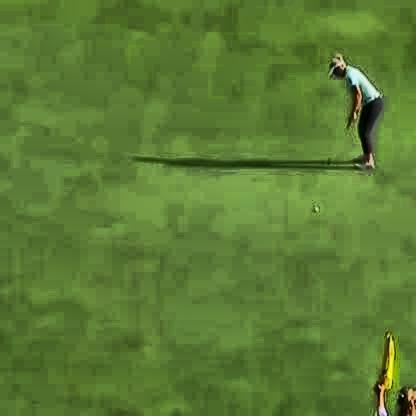golfball: (311, 204, 316, 209)
